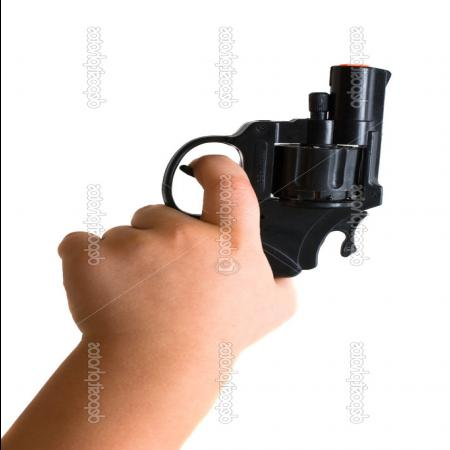Pistol: (57, 59, 400, 306)
